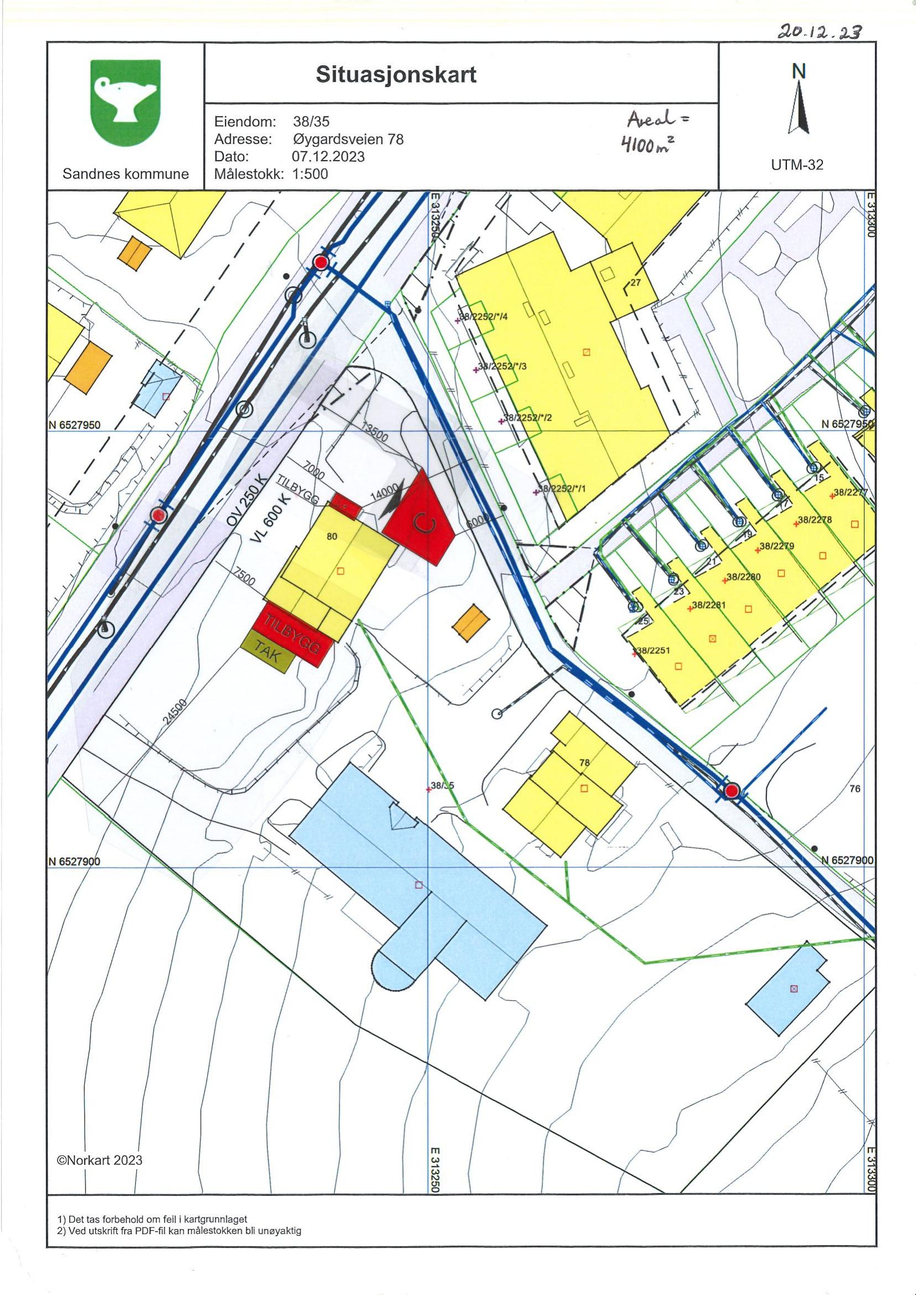situasjonskart: (43, 189, 880, 1196)
